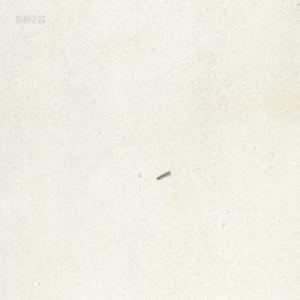Bolt: (156, 169, 169, 179)
